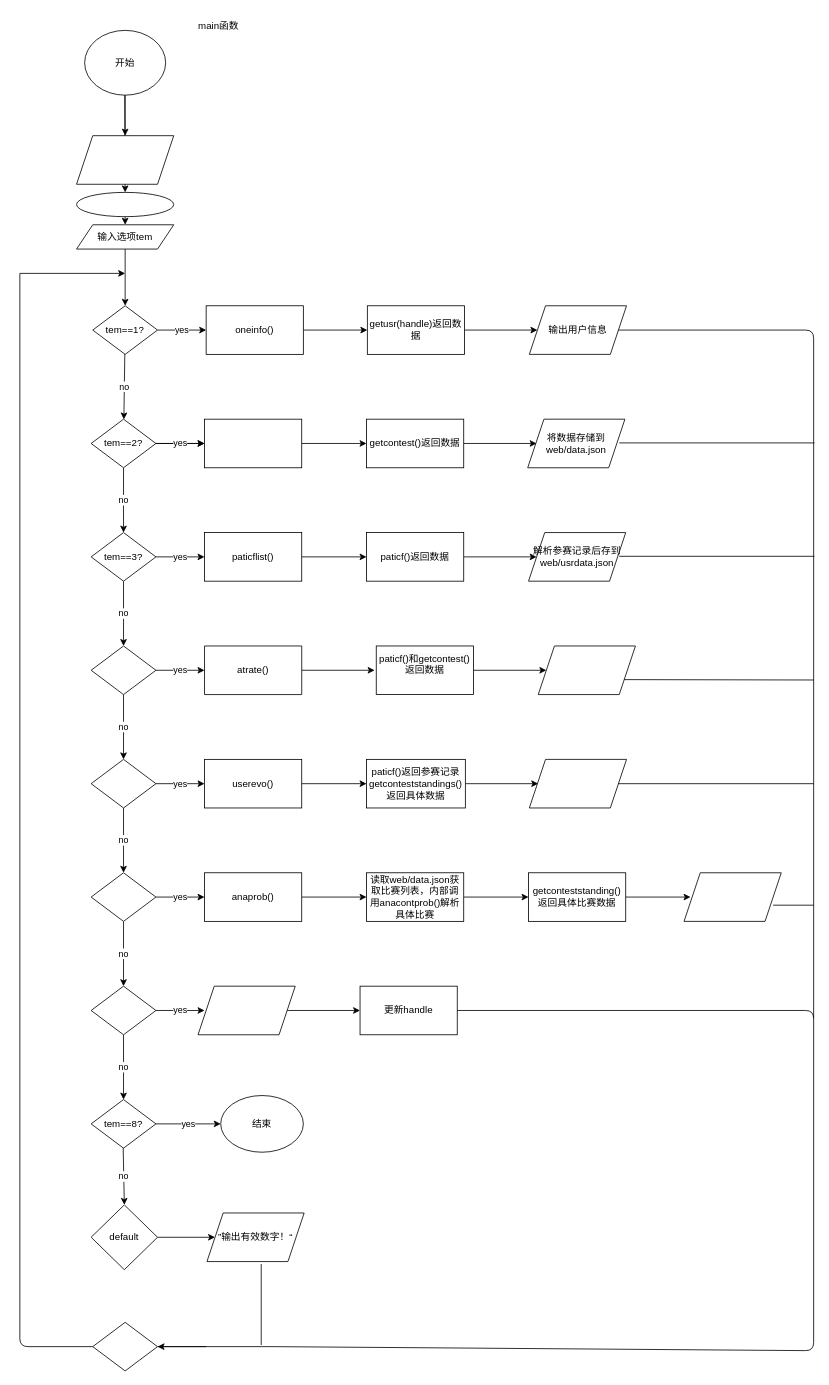
The diagram is 829 pixels wide and 1385 high, and some of its shapes have lost their labels. The centre of each missing label's shape, as x and y in pixels:
cfbytime(): (x=253, y=443)
handle: (x=125, y=159)
tem==4?: (x=123, y=670)
tem==5?: (x=123, y=783)
tem==6?: (x=123, y=896)
tem==7?: (x=123, y=1010)
True: (x=125, y=1346)
将不同类别比赛存到相应.json文件: (x=732, y=896)
显示功能菜单: (x=125, y=204)
解析出勤数据后存到attendance.json里: (x=586, y=670)
解析后存到userevo.json: (x=578, y=783)
输入新的handle: (x=246, y=1010)
